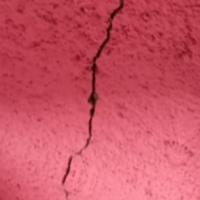crack: (52, 1, 131, 199)
